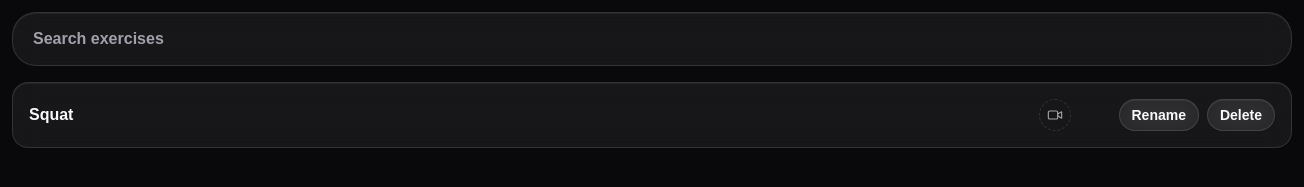
Test: renames inline and refreshes the list
Expected: the heading "Squat" is shown, [29,103,74,127]
Click the button "Rename": (1159,115) [1118,99,1199,131]
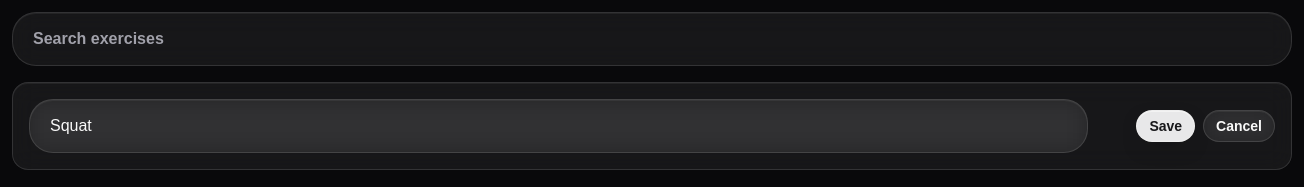
Replace the text in the field named "Exercise name" with "Back squat": (559,126) [29,99,1088,153]
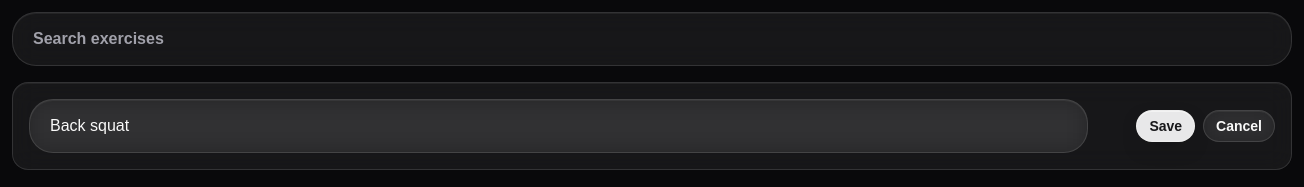
Click the button "Save": (1166,126) [1136,110,1195,142]
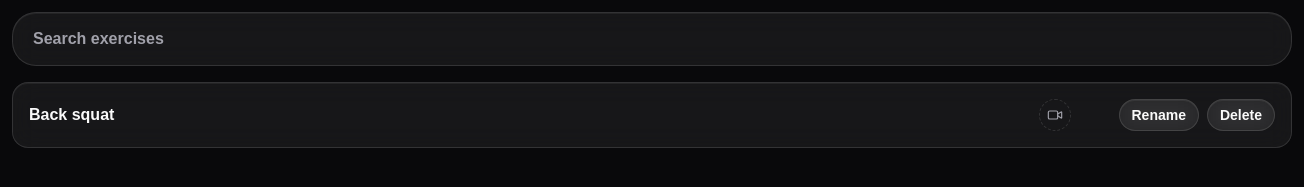
Expected: the heading "Back squat" is shown, [29,103,114,127]
